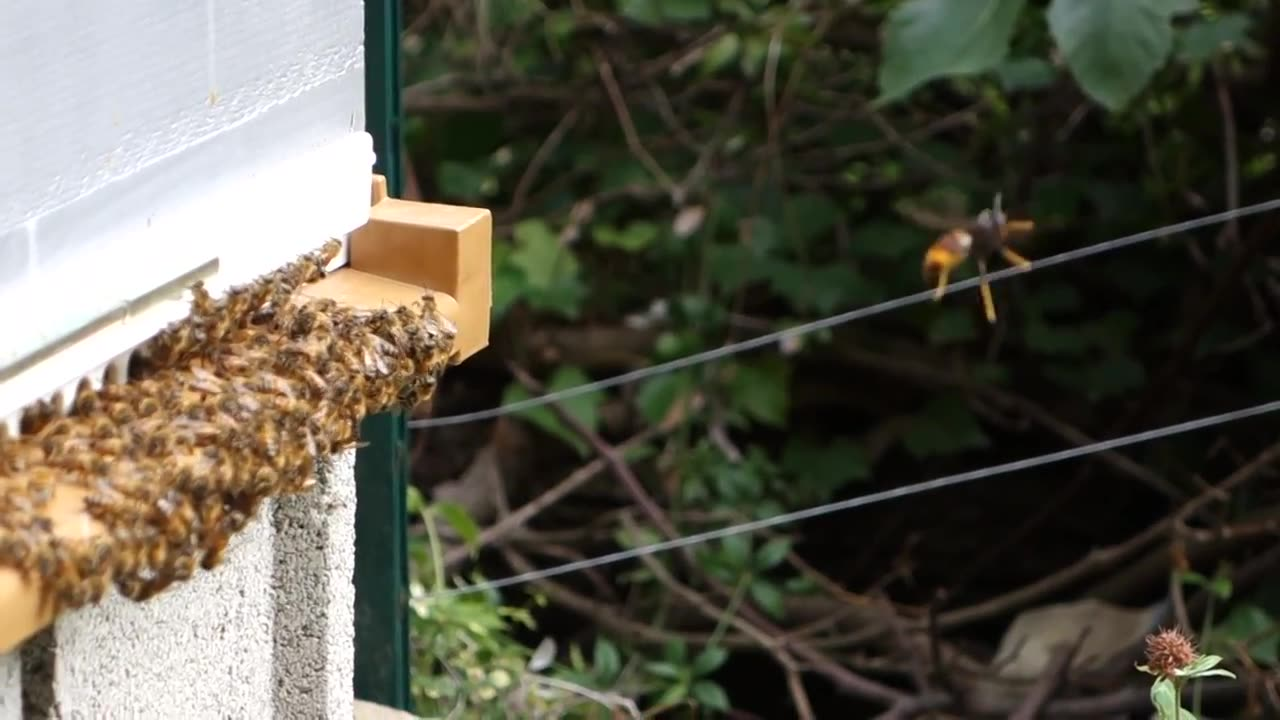bee: (167, 325, 330, 408), (39, 388, 163, 479), (58, 494, 148, 606), (359, 287, 459, 369), (158, 460, 227, 575), (247, 407, 352, 480), (324, 364, 442, 409), (236, 264, 295, 326), (304, 230, 350, 268), (289, 307, 337, 342), (182, 284, 219, 321)
hornet: (905, 188, 1040, 320)
